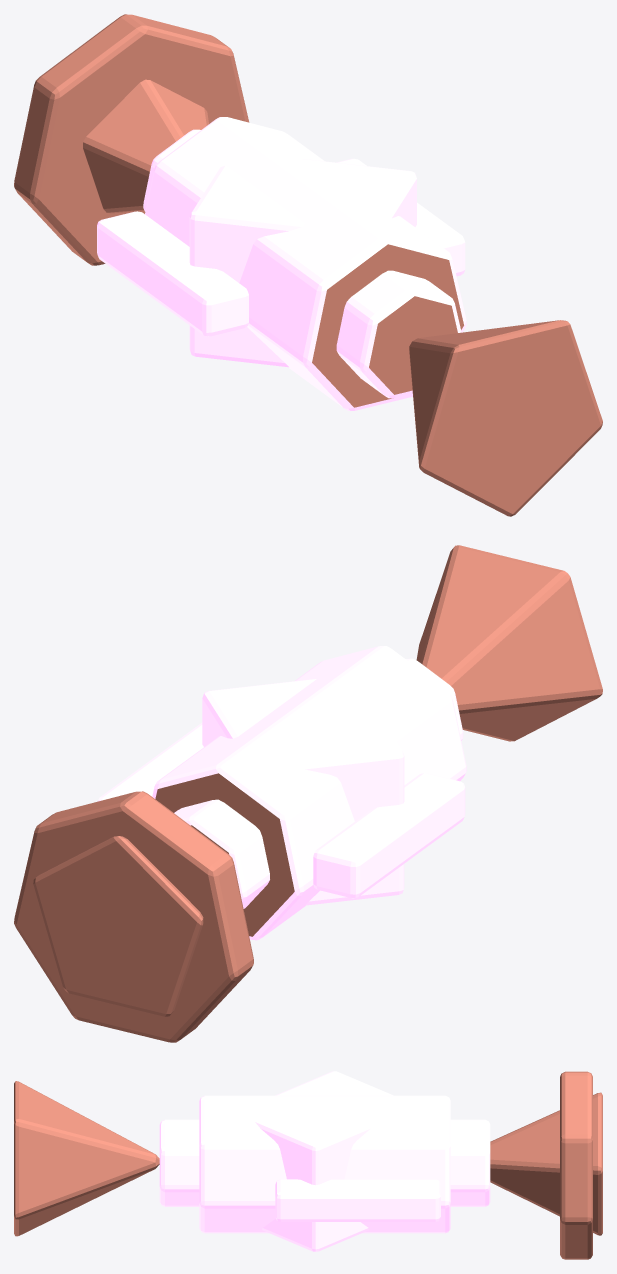
The model's file is Projectile_EnemyBolt.fbx.
The picture shows the model from 3 angles, top to bottom: view 1: azimuth 30°, elevation 25°; view 2: azimuth 150°, elevation 25°; view 3: azimuth 270°, elevation 25°; orthographic projection. The views are drawn at different scales.
Visible parts, largest first — view 1: Projectile_EnemyBolt_Buffer; view 2: Projectile_EnemyBolt_Buffer; view 3: Projectile_EnemyBolt_Buffer.
Part boxes in pixels (x1,y1,x2,y2): Projectile_EnemyBolt_Buffer: [14, 14, 602, 516]; Projectile_EnemyBolt_Buffer: [14, 545, 602, 1042]; Projectile_EnemyBolt_Buffer: [14, 1071, 602, 1259].
Bounding box in the file's own units: 0.34 × 0.2835 × 0.89.
